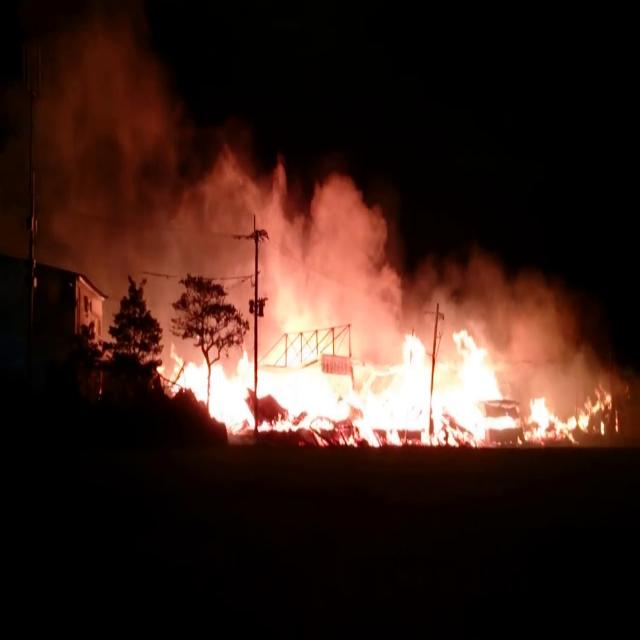fire: (187, 342, 494, 489)
smoke: (186, 168, 280, 313), (296, 182, 382, 334), (511, 303, 565, 398)
